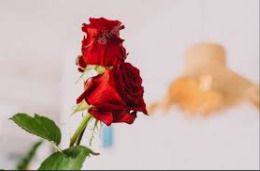RedRose: (90, 60, 155, 126), (71, 11, 137, 67)
